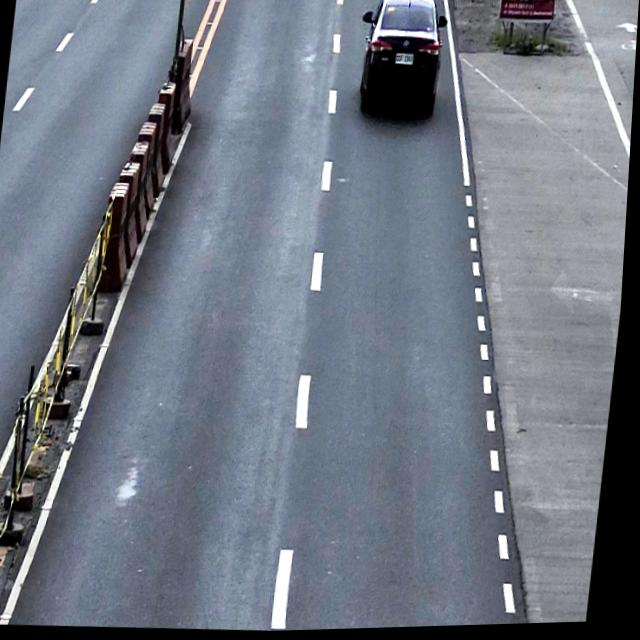Car: (352, 0, 451, 122)
License-Plate: (394, 54, 415, 69)
